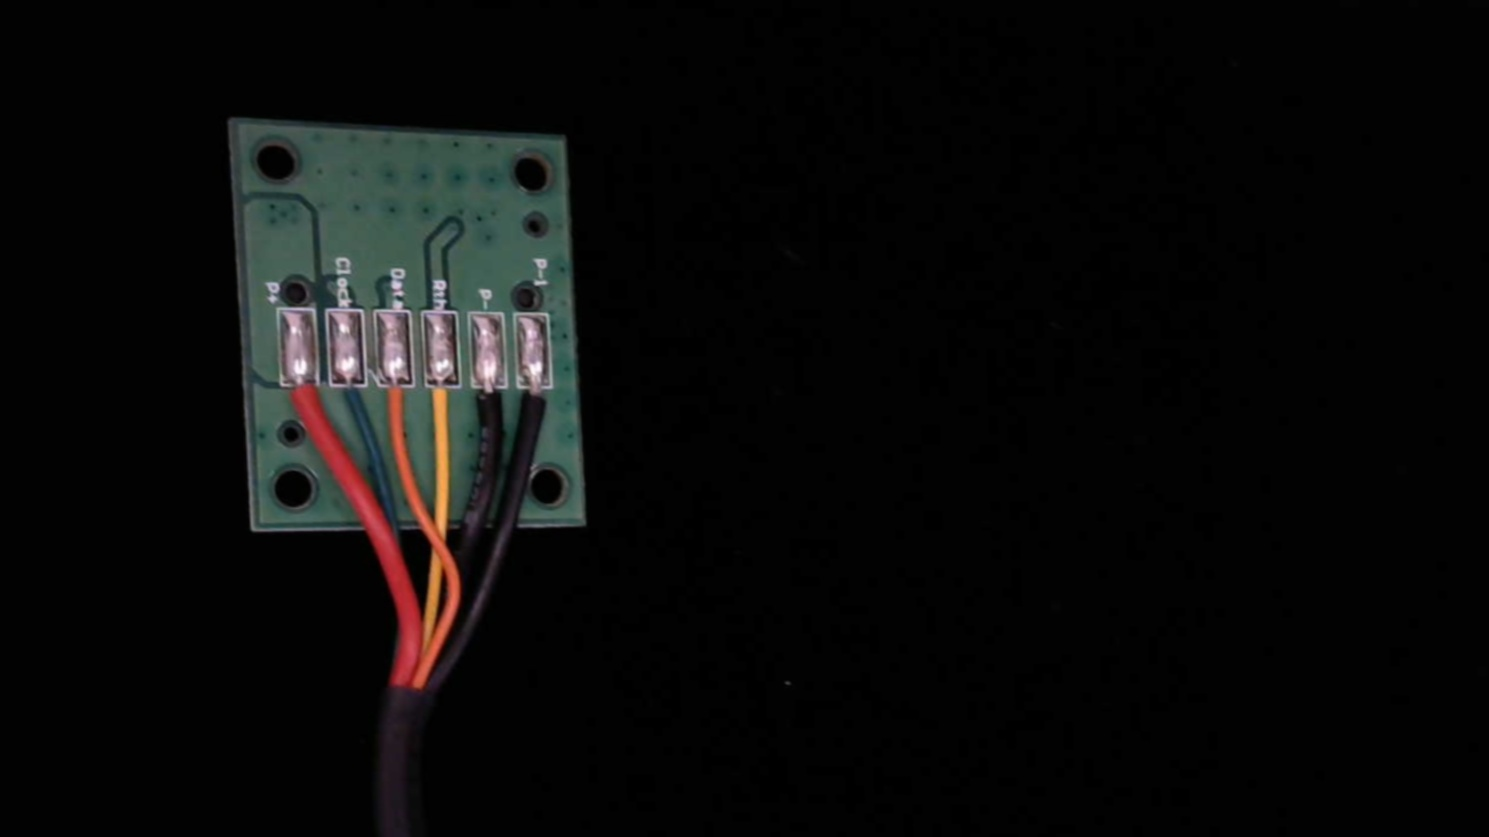Black: (467, 363, 511, 450)
Black1: (515, 366, 558, 446)
Green: (328, 356, 372, 439)
Orange: (374, 362, 416, 448)
Red: (279, 361, 323, 445)
Yellow: (422, 364, 466, 453)
